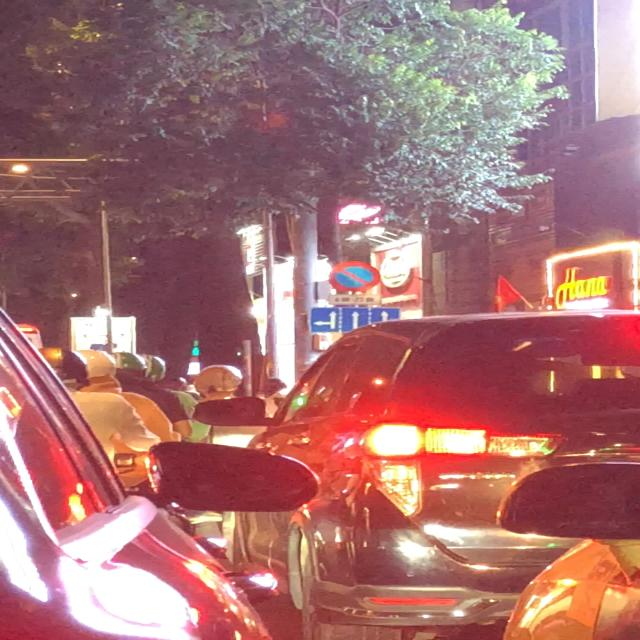Bien bao cam do xe: (326, 261, 388, 293)
